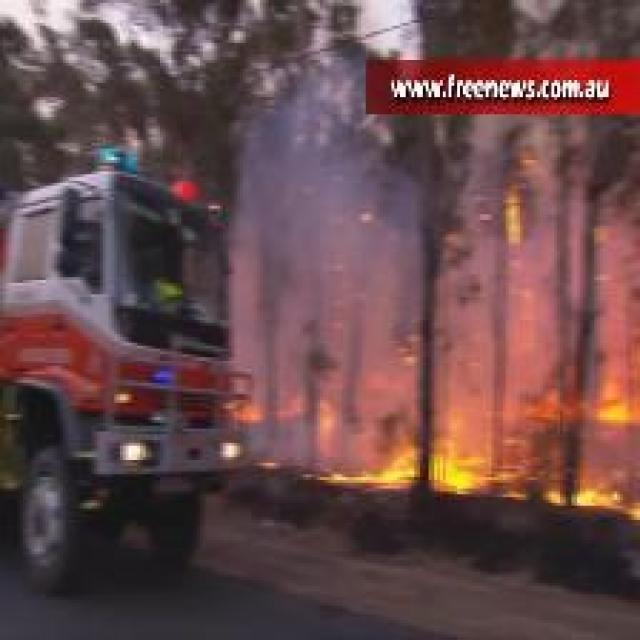Fire: (432, 413, 494, 490), (316, 448, 416, 492), (548, 489, 640, 521)
